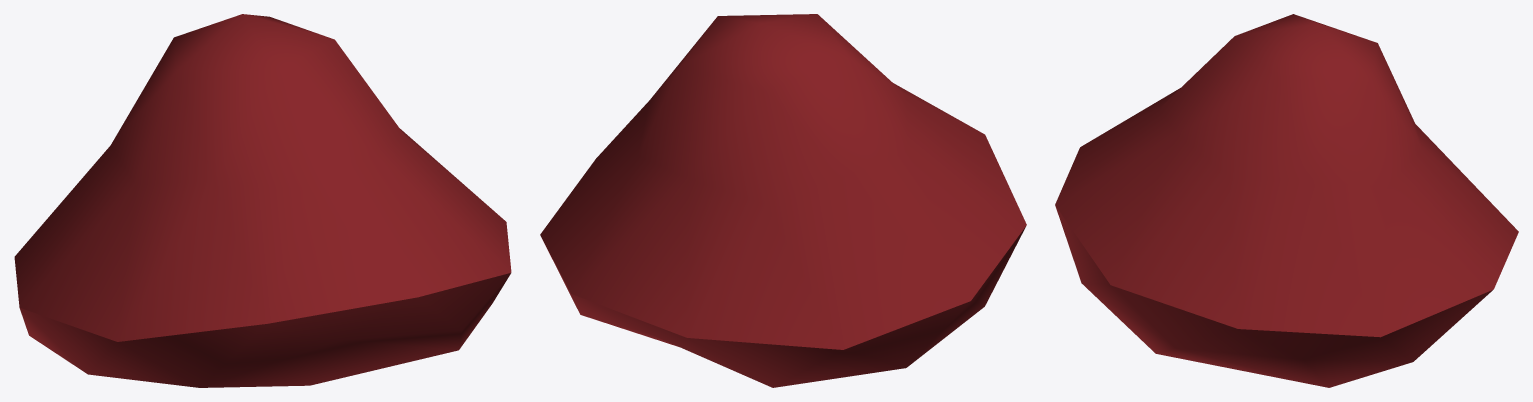
Rendered from Mushroom.fbx.
3 views of the same model, side by side, from view 1: azimuth 30°, elevation 25°; view 2: azimuth 150°, elevation 25°; view 3: azimuth 270°, elevation 25° (orthographic). The views are drawn at different scales.
Parts seen in each view (by area): view 1: Hat_Mushroom; view 2: Hat_Mushroom; view 3: Hat_Mushroom.
Boxes of the visible parts, <box> form: Hat_Mushroom: <box>14,14,511,387</box>; Hat_Mushroom: <box>540,14,1026,387</box>; Hat_Mushroom: <box>1055,14,1518,387</box>.
Bounding box in the file's own units: 194 × 137 × 195.
